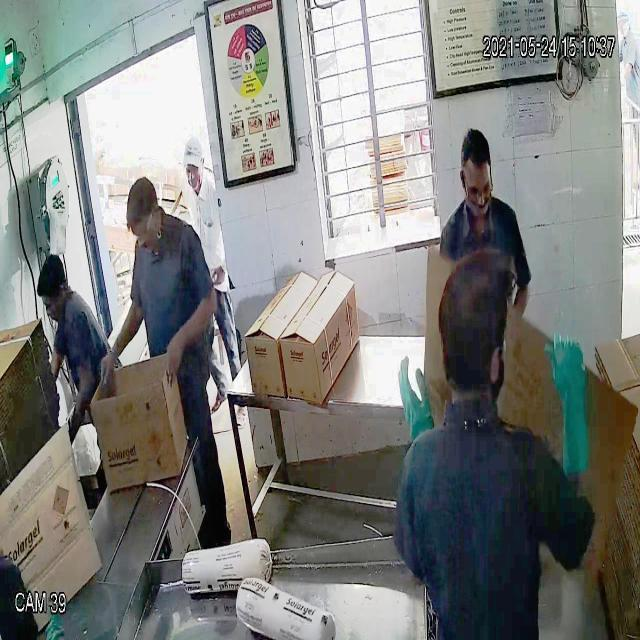glasses: (461, 166, 496, 206)
